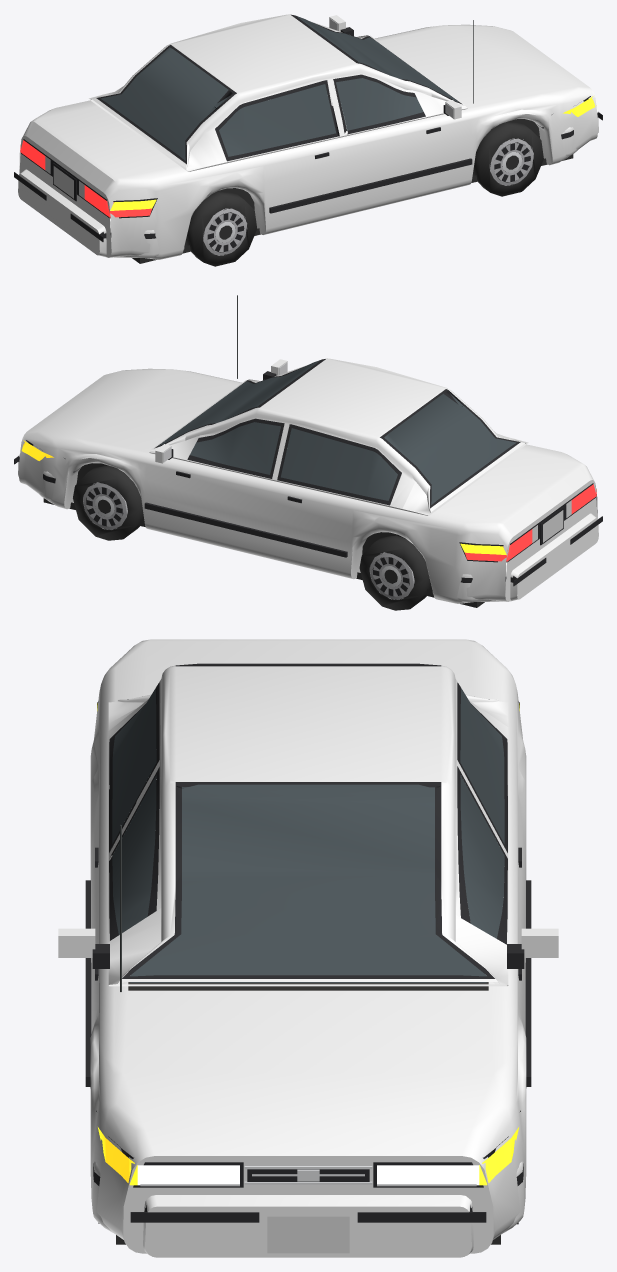
Rendered from car_sedan_far.glb.
3 renders of one model, top to bottom at view 1: azimuth 30°, elevation 25°; view 2: azimuth 150°, elevation 25°; view 3: azimuth 270°, elevation 25°, orthographic. The views are drawn at different scales.
Visible parts, largest first — view 1: body, wheel_RR, wheel_FR; view 2: body, wheel_RL, wheel_FL; view 3: body.
Part boxes in pixels (x1,y1,x2,y2): body: (14,14,602,263); wheel_RR: (186,191,257,266); wheel_FR: (473,122,543,196); body: (14,295,602,607); wheel_RL: (359,535,430,610); wheel_FL: (73,465,143,540); body: (58,639,558,1257).
Size of the model in its own units: 4.71 by 1.63 by 2.04.
